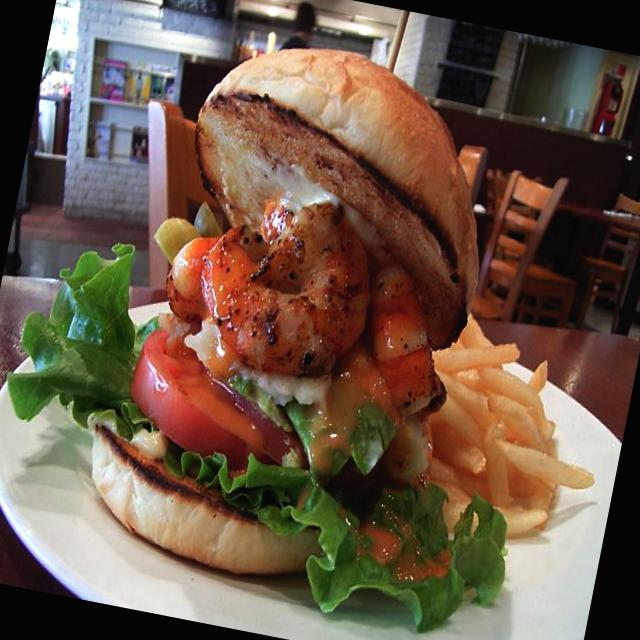Hamburger: (53, 0, 524, 600)
